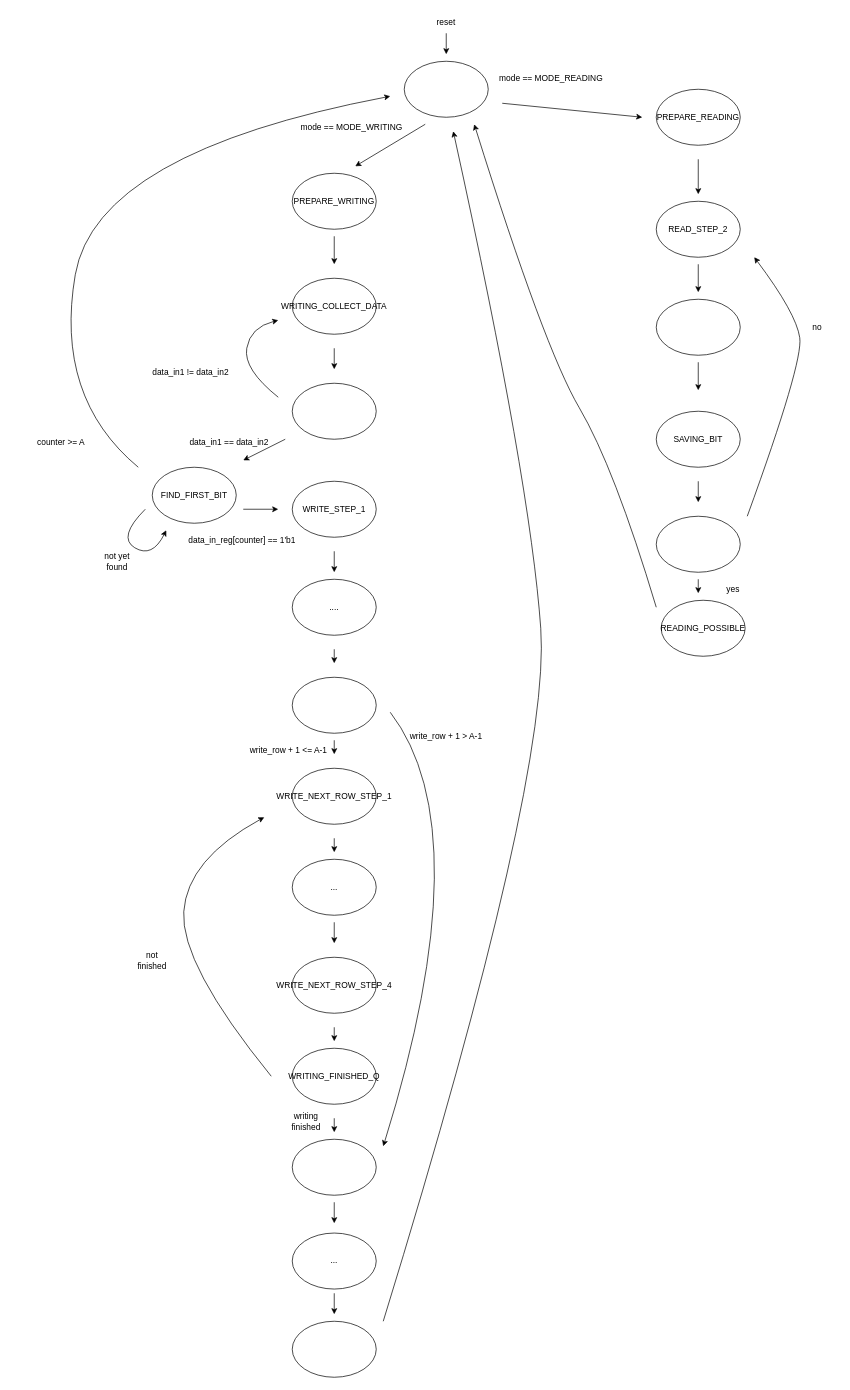
Some shapes in this 850 by 1390 pixel diagram are drawn without their labels. Here are the shapes that lost their labels. From the top down, the box of each, then its label:
(404, 61, 488, 117): IDLE
(656, 299, 740, 355): READ_STEP_3
(292, 383, 376, 439): WRITING_COMPARE_DATA
(656, 516, 740, 572): READING_FINISHED_Q
(292, 677, 376, 733): WRITE_STEP_6
(292, 1139, 376, 1195): POWER_DOWN_STEP_1
(292, 1321, 376, 1377): POWER_DOWN_STEP_4
